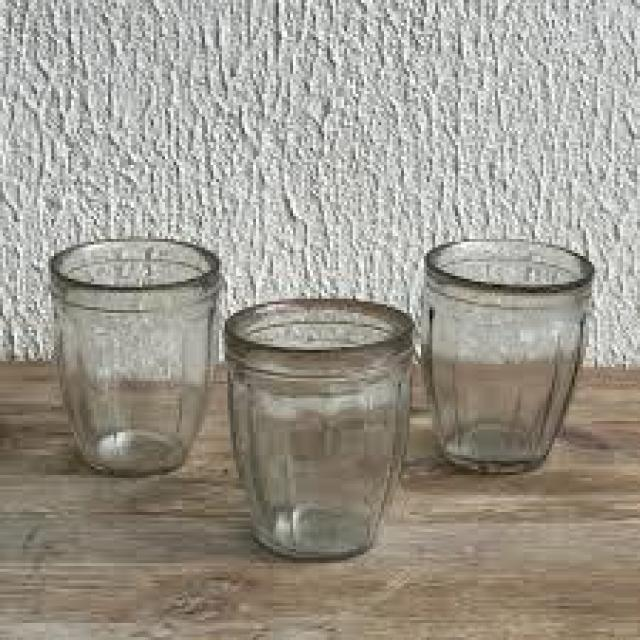glass: (220, 294, 420, 562)
